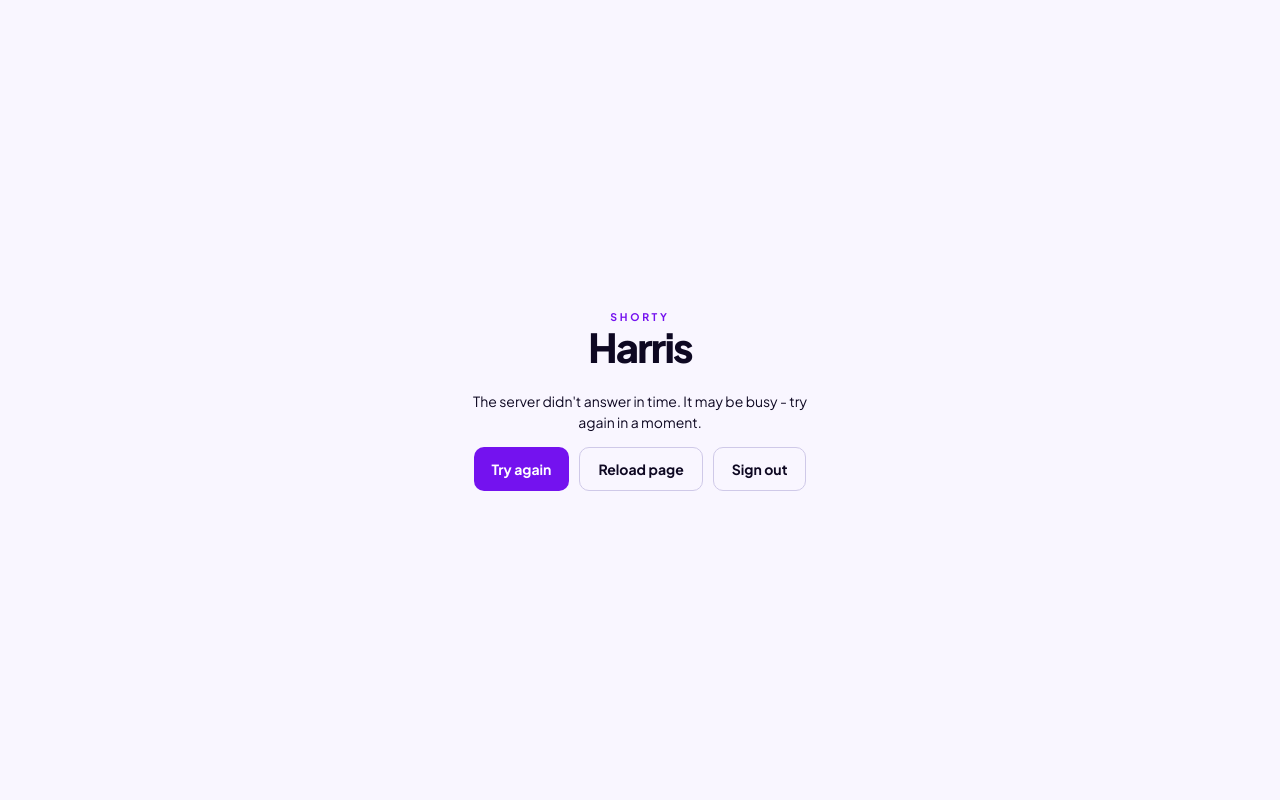
Test: auth bootstrap never leaves the splash spinning forever (13 Nov 2026 reload in mobile Safari) › Try again recovers once the server answers
Click the button "Try again" at [521, 469], box [474,447,569,491]
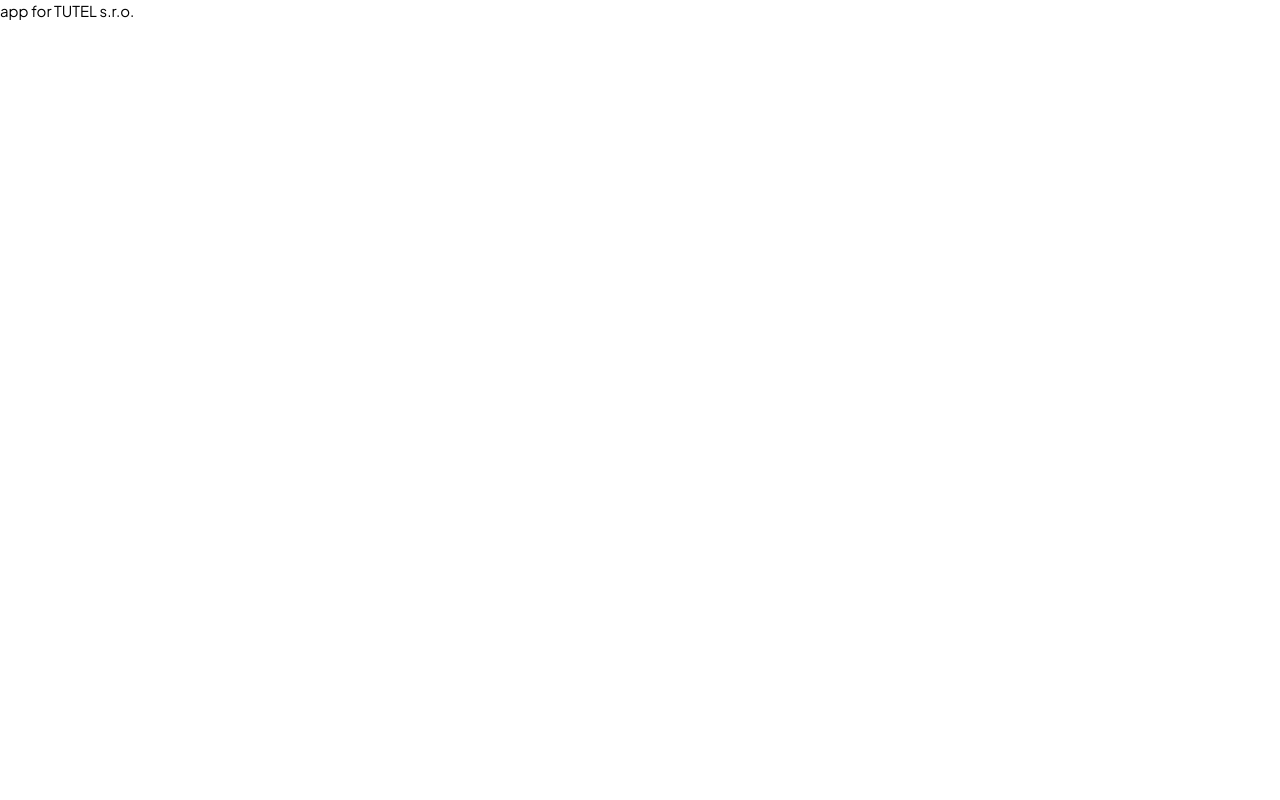
Check: the text "app for TUTEL s.r.o." is shown, box [0,1,134,20]
